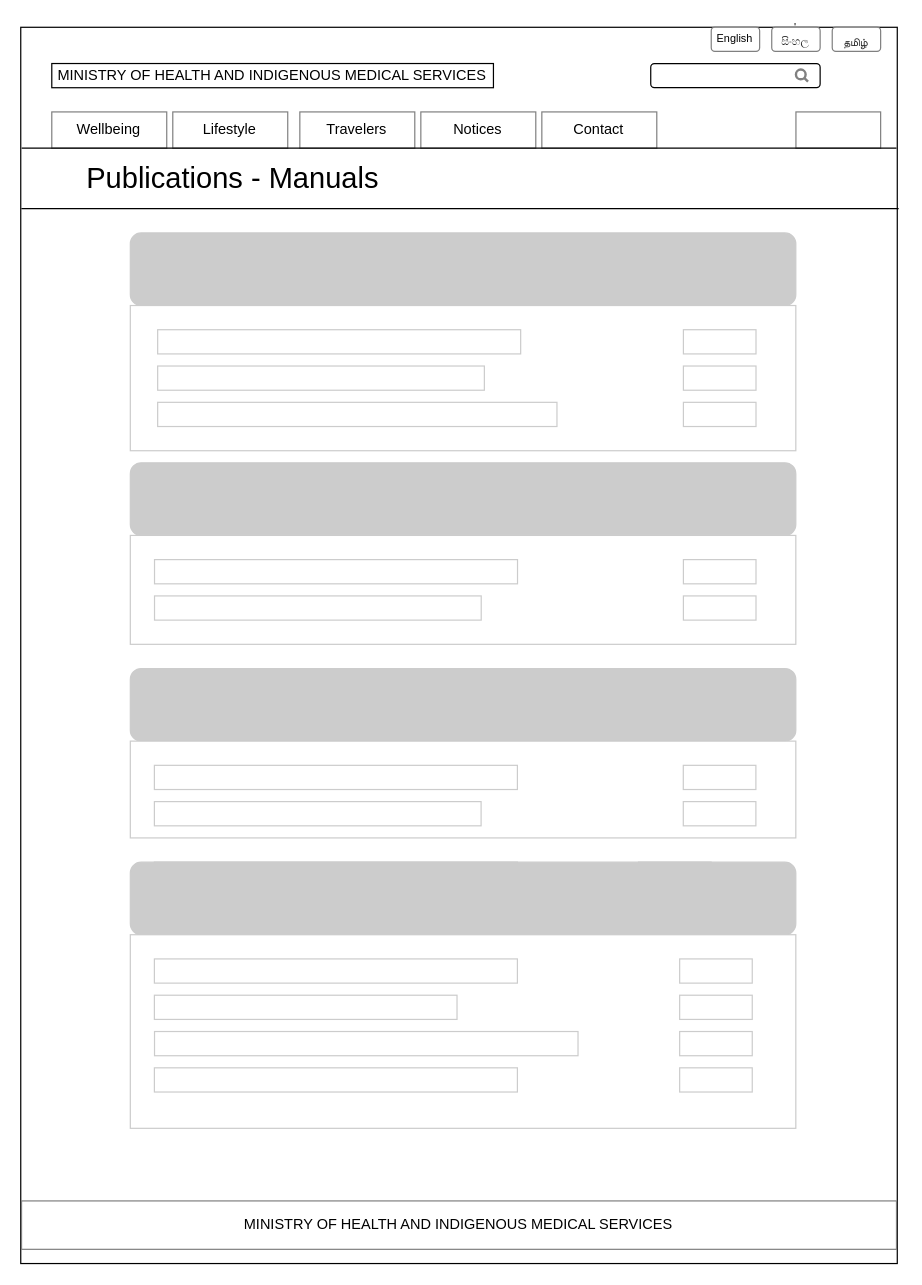
Image size: 922x1285. Some labels were removed from this diagram. The shapes that lost their labels are listed below. From the top down, each one's box as (x1, y1, x2, y2) in pixels, then its label:
(650, 62, 820, 88): Search
(795, 111, 881, 148): Login
